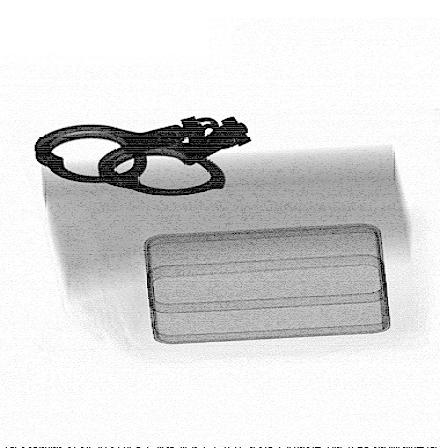HandCuffs: (31, 114, 257, 200)
